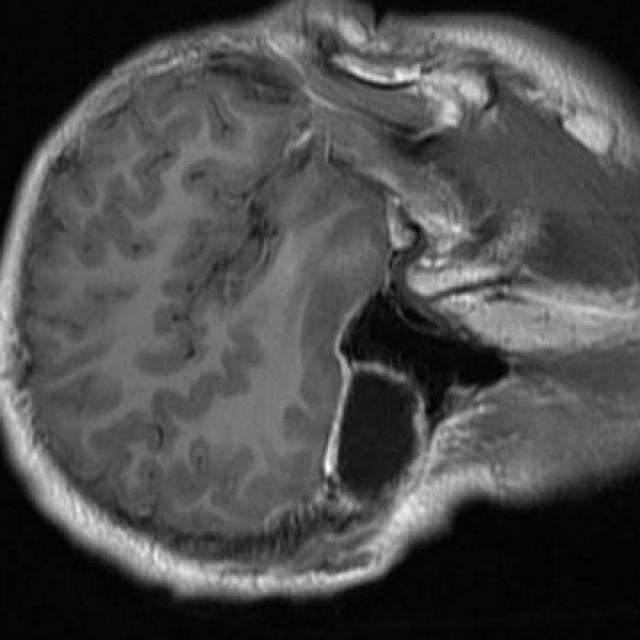glioma: (319, 364, 426, 515)
